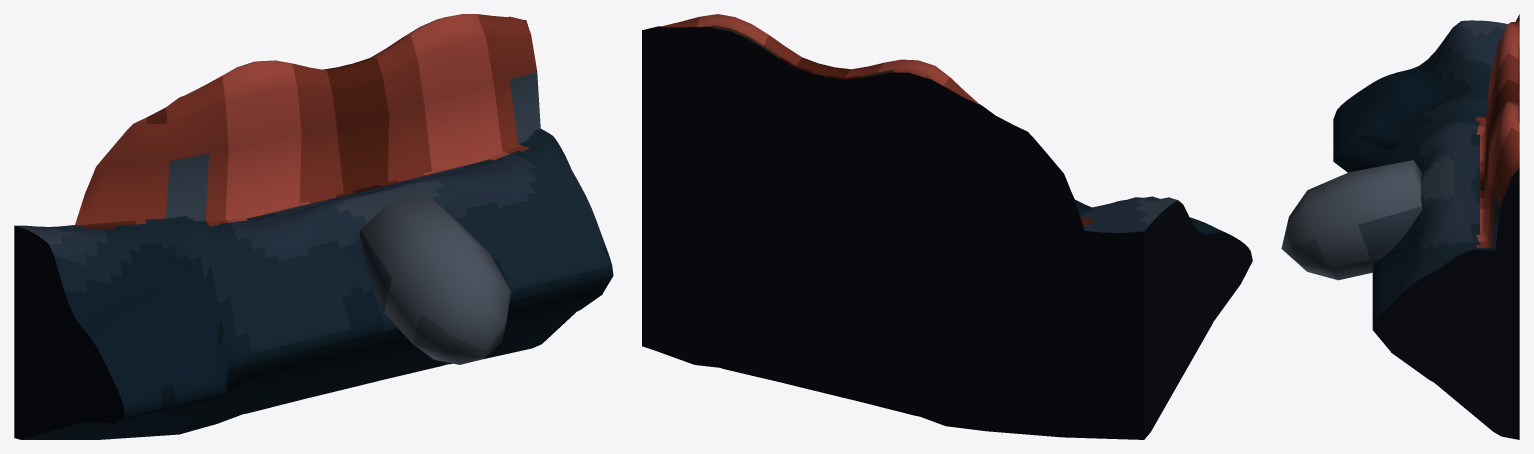
Rendered from newshn-195.glb.
3 views of the same model, side by side, from view 1: azimuth 30°, elevation 25°; view 2: azimuth 150°, elevation 25°; view 3: azimuth 270°, elevation 25° (orthographic). The views are drawn at different scales.
Parts seen in each view (by area): view 1: newshn-195; view 2: newshn-195; view 3: newshn-195.
Part boxes in pixels (left/top/right/bottom): newshn-195: left=14, top=14, right=613, bottom=439; newshn-195: left=642, top=14, right=1252, bottom=439; newshn-195: left=1281, top=14, right=1519, bottom=439.
Bounding box in the file's own units: 2 × 1.34 × 0.9583.
